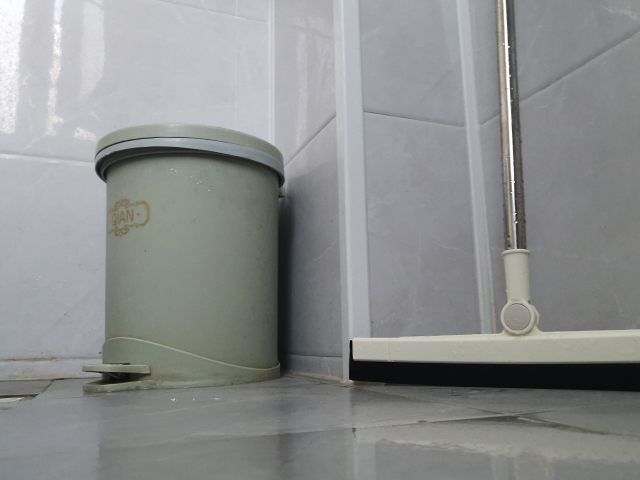trashcan: (80, 121, 289, 396)
